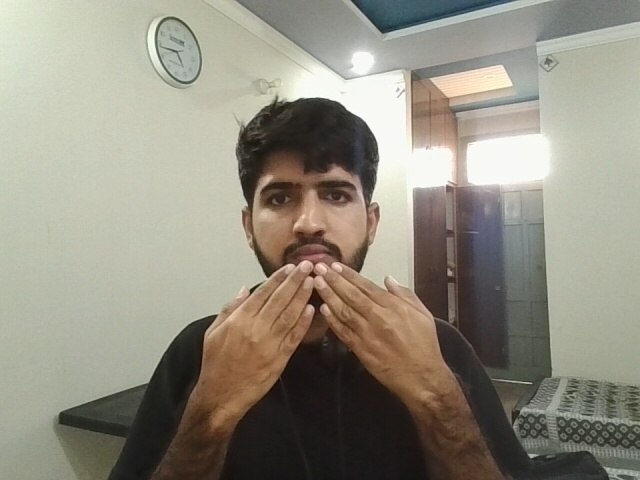Thanks: (131, 246, 530, 429)
